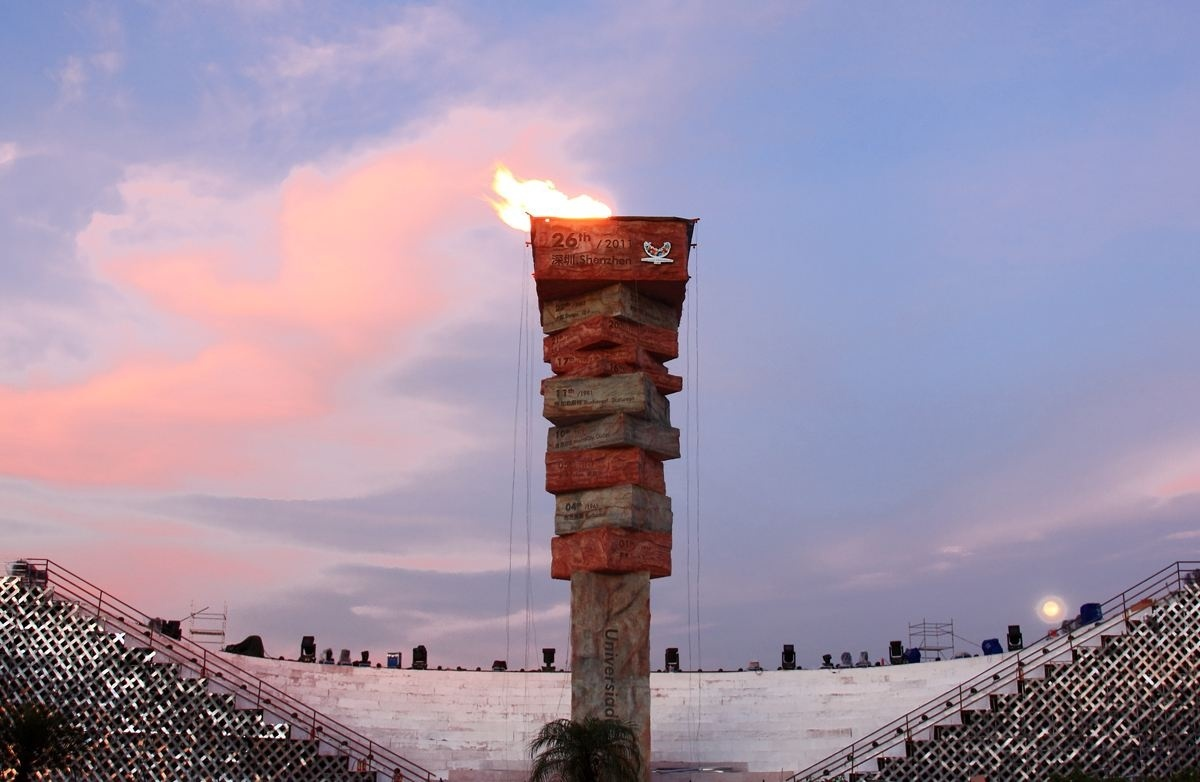fire: (485, 163, 613, 227)
